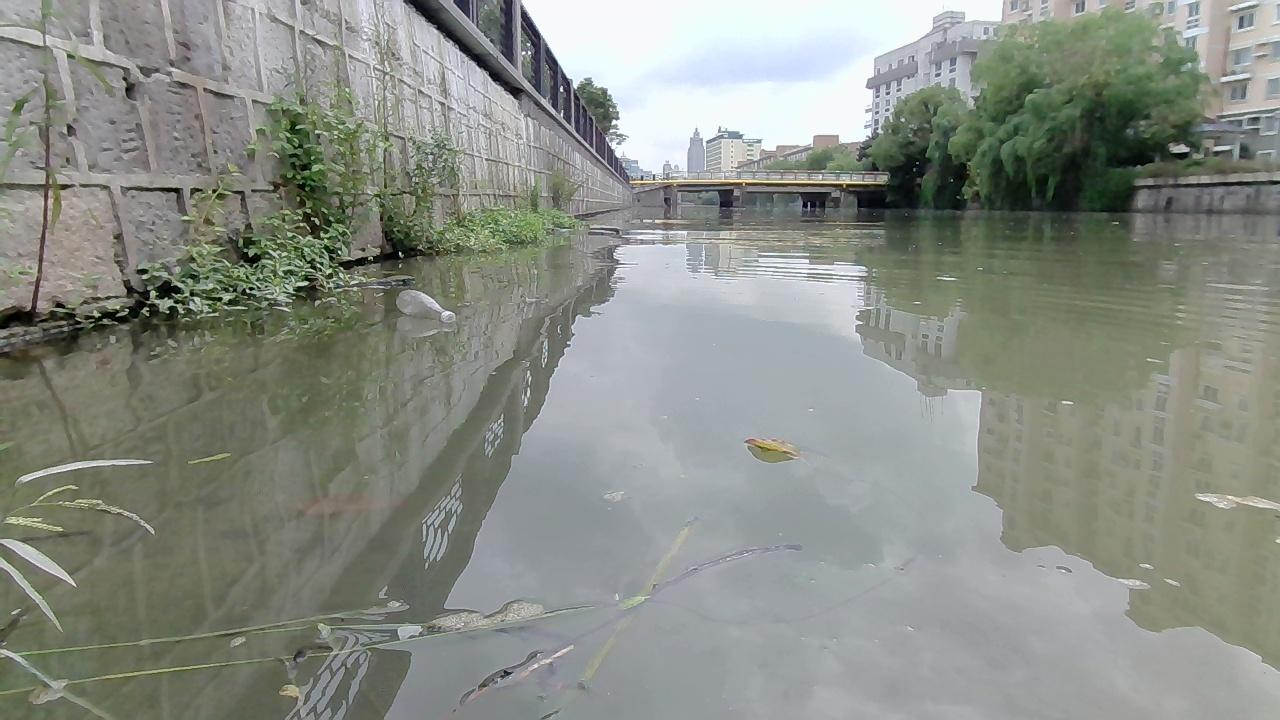bottle: (395, 284, 458, 324)
